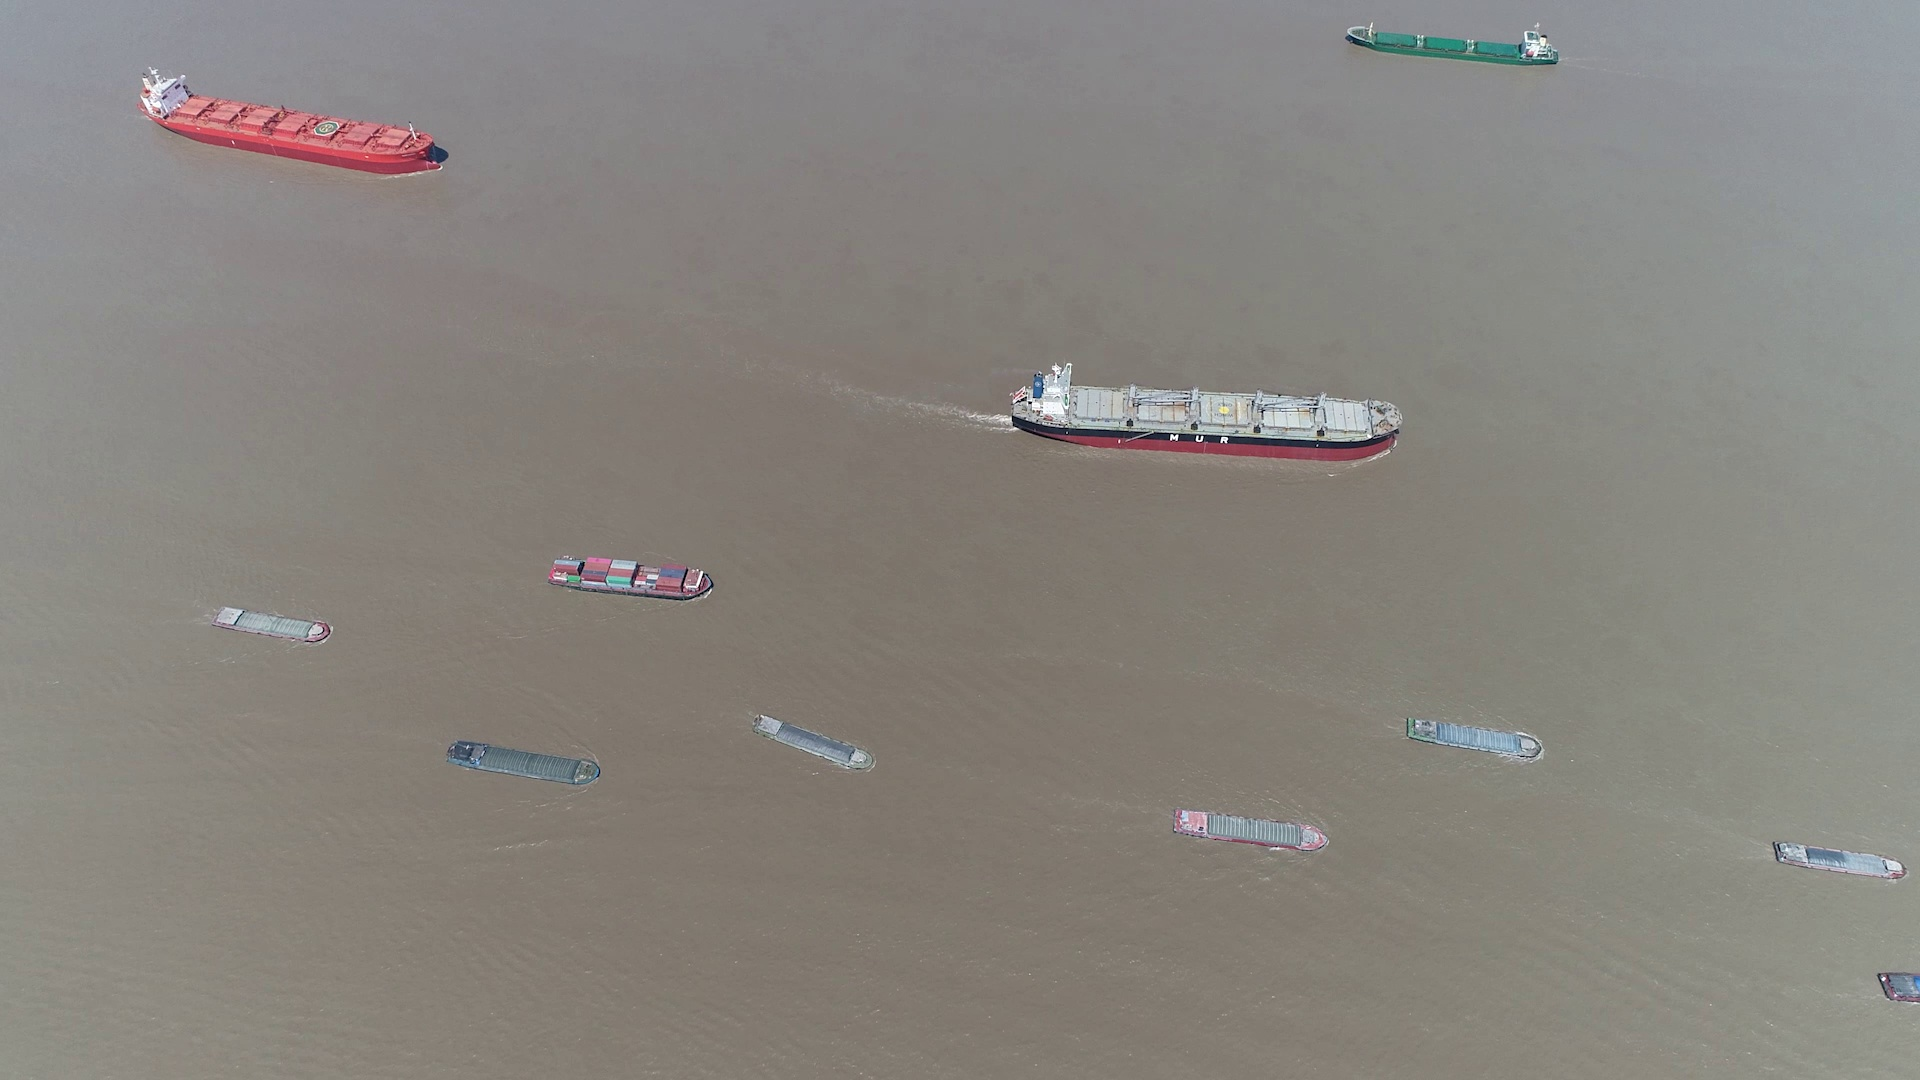ship: (1011, 367, 1403, 462), (142, 66, 444, 171), (1344, 24, 1559, 66), (549, 554, 715, 600), (448, 738, 603, 786), (756, 713, 874, 773), (1174, 808, 1329, 851), (1404, 717, 1544, 760), (1772, 840, 1904, 880), (212, 605, 332, 644), (1879, 972, 1920, 1004)
